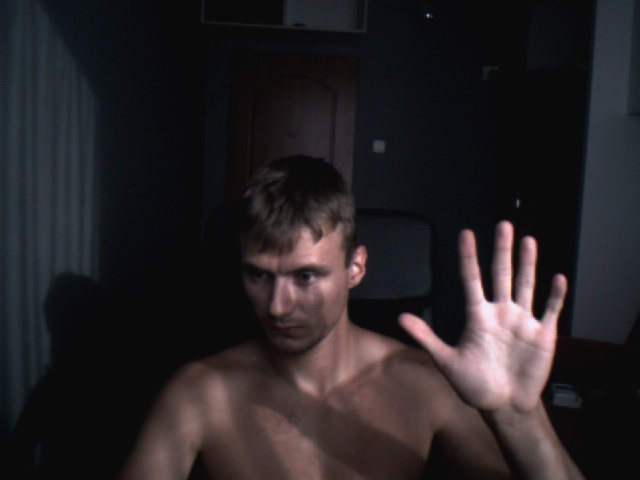open: (398, 220, 567, 417)
